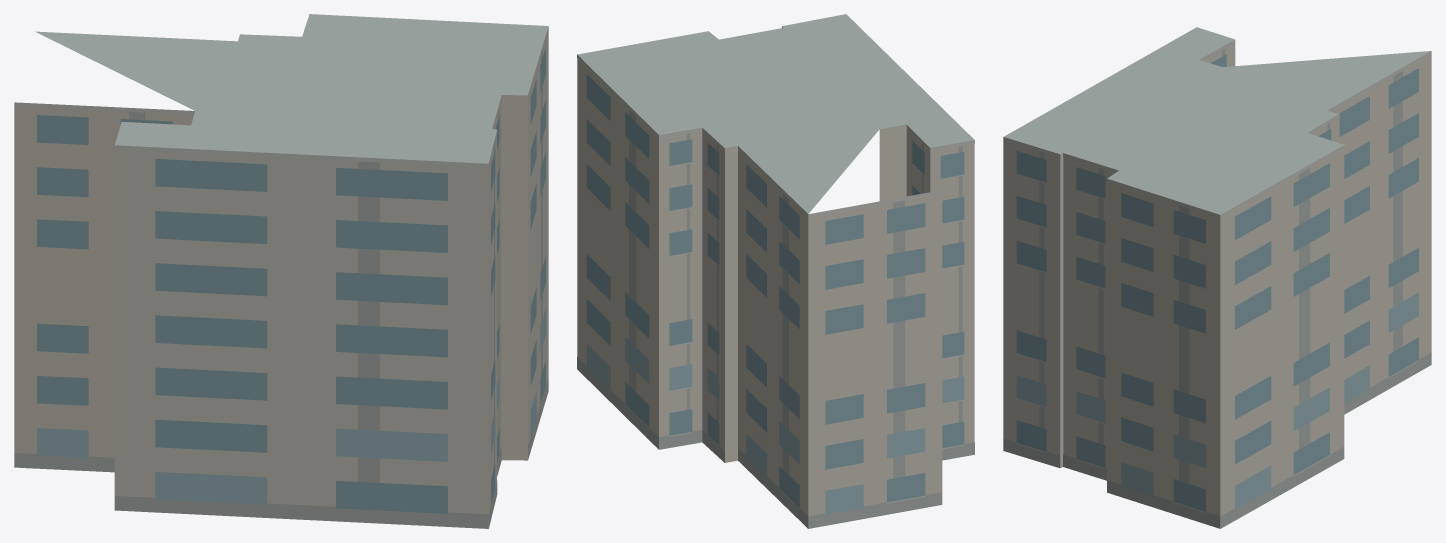
The model's file is survey-upis-32631555.glb.
The picture shows the model from 3 angles, left to right: view 1: azimuth 30°, elevation 25°; view 2: azimuth 150°, elevation 25°; view 3: azimuth 270°, elevation 25°; orthographic projection. The views are drawn at different scales.
Parts seen in each view (by area): view 1: survey-upis-32631555.tmp; view 2: survey-upis-32631555.tmp; view 3: survey-upis-32631555.tmp.
Boxes of the visible parts, x1,y1,x2,y2 form: survey-upis-32631555.tmp: [14, 14, 548, 528]; survey-upis-32631555.tmp: [577, 14, 974, 528]; survey-upis-32631555.tmp: [1003, 27, 1431, 528].
Bounding box in the file's own units: 29.65 × 21.6 × 26.7.
